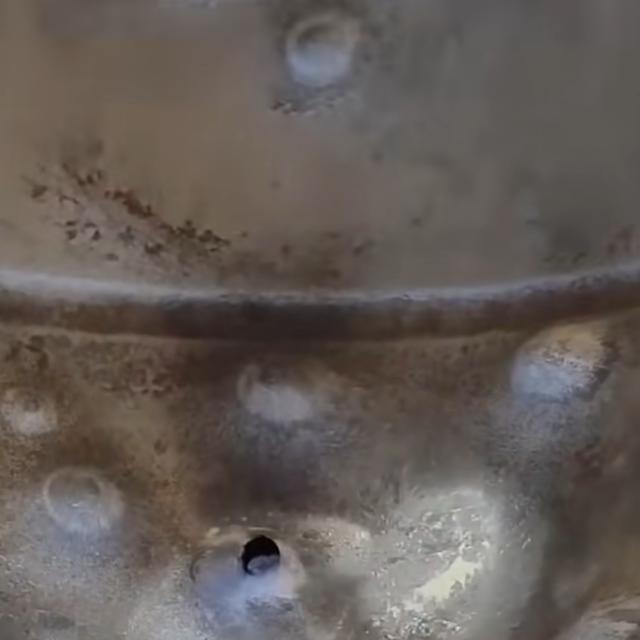bullets: (2, 434, 156, 553), (194, 504, 332, 620), (212, 337, 353, 449), (264, 0, 382, 115), (498, 308, 620, 414), (0, 375, 83, 457)
